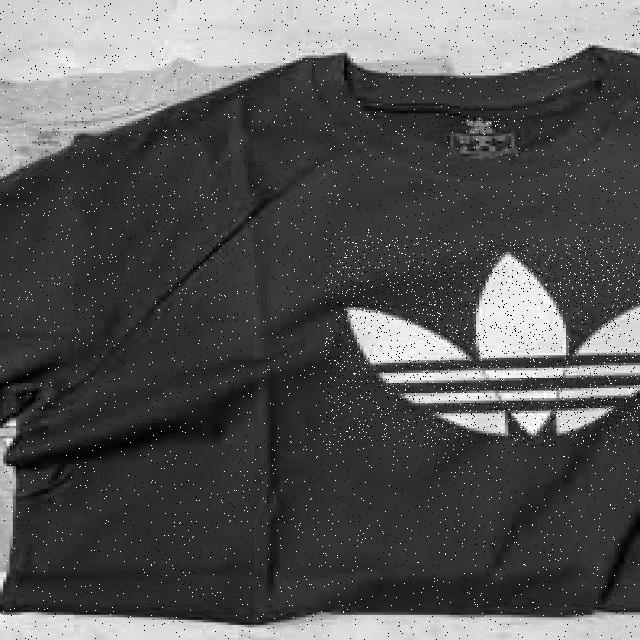Adidas: (325, 237, 640, 446), (460, 114, 502, 134)
